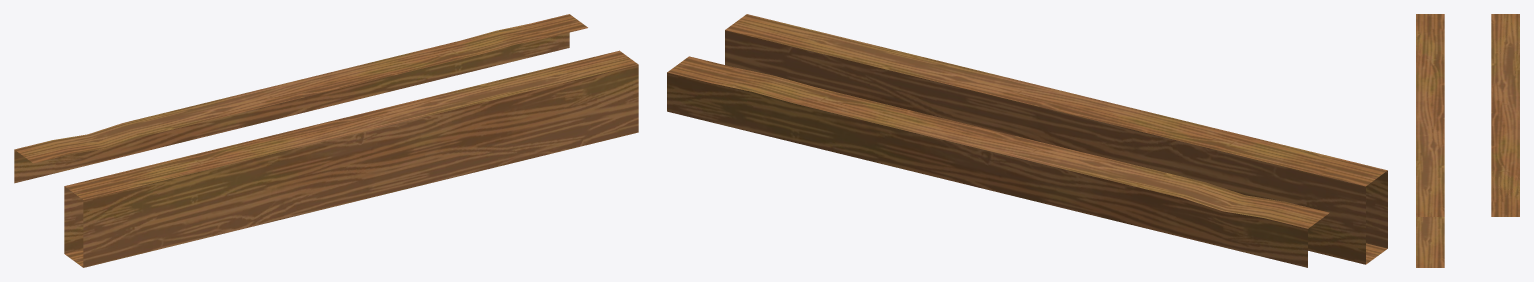
File: Wall_BottomCover.glb
3 renders of one model, left to right at view 1: azimuth 30°, elevation 25°; view 2: azimuth 150°, elevation 25°; view 3: azimuth 270°, elevation 25°, orthographic. The views are drawn at different scales.
Visible parts, largest first — view 1: Wall_BottomCover; view 2: Wall_BottomCover; view 3: Wall_BottomCover.
Boxes of the visible parts, x1,y1,x2,y2 form: Wall_BottomCover: (14,14,638,267); Wall_BottomCover: (667,14,1387,267); Wall_BottomCover: (1416,14,1519,267).
Size of the model in its own units: 2 by 0.2376 by 0.4317.
Materials: 1 (1 with a texture image).
